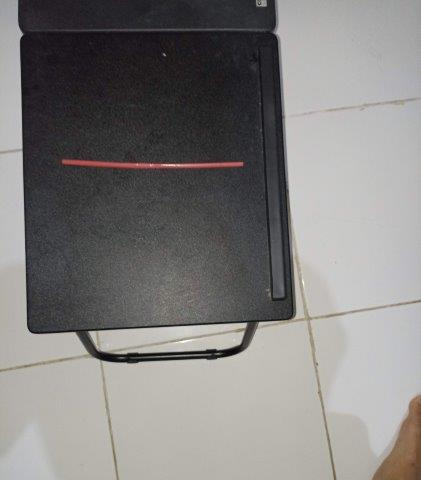sedotan: (63, 159, 243, 169)
